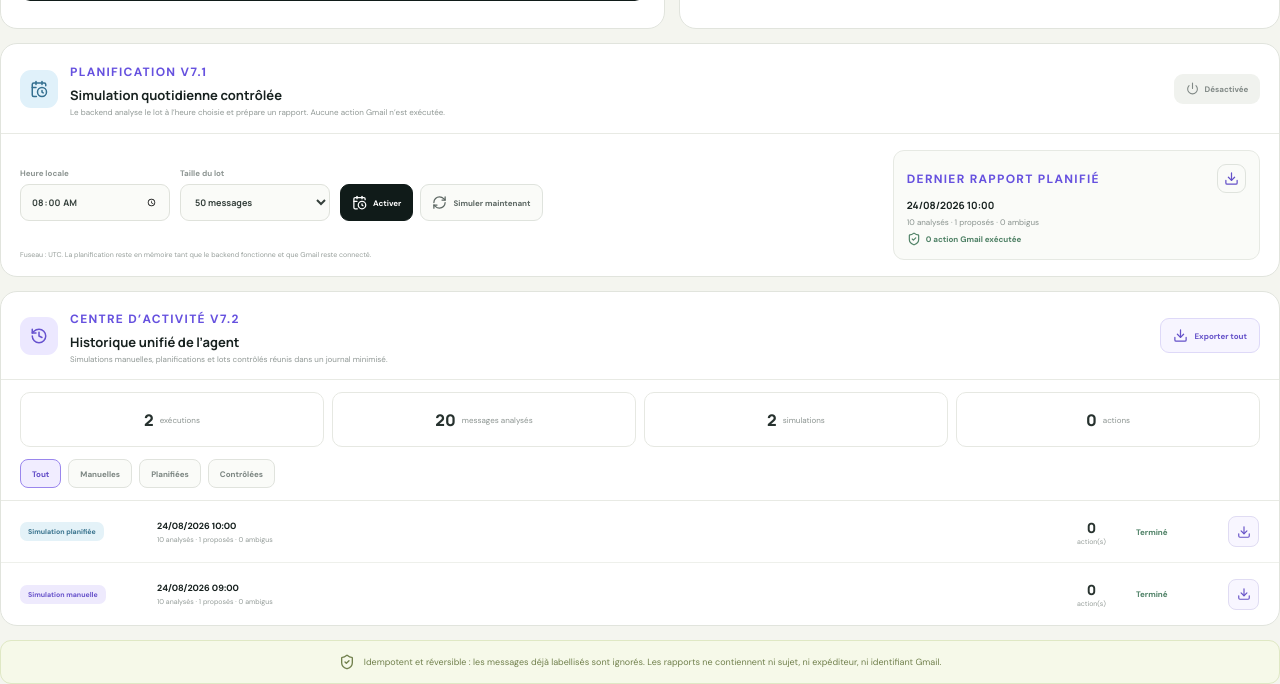
Scenario: Agent contrôlé V7 › réunit et filtre les rapports manuels et planifiés
(page scrolled)
Expected: the text "Simulation planifiée" is shown, top-left (20, 522), bottom-right (104, 541)
Expected: the text "Simulation manuelle" is shown, top-left (20, 584), bottom-right (106, 604)
Click the button "Planifiées".
click(170, 474)  # box top-left (139, 459), bottom-right (201, 488)
(page scrolled)
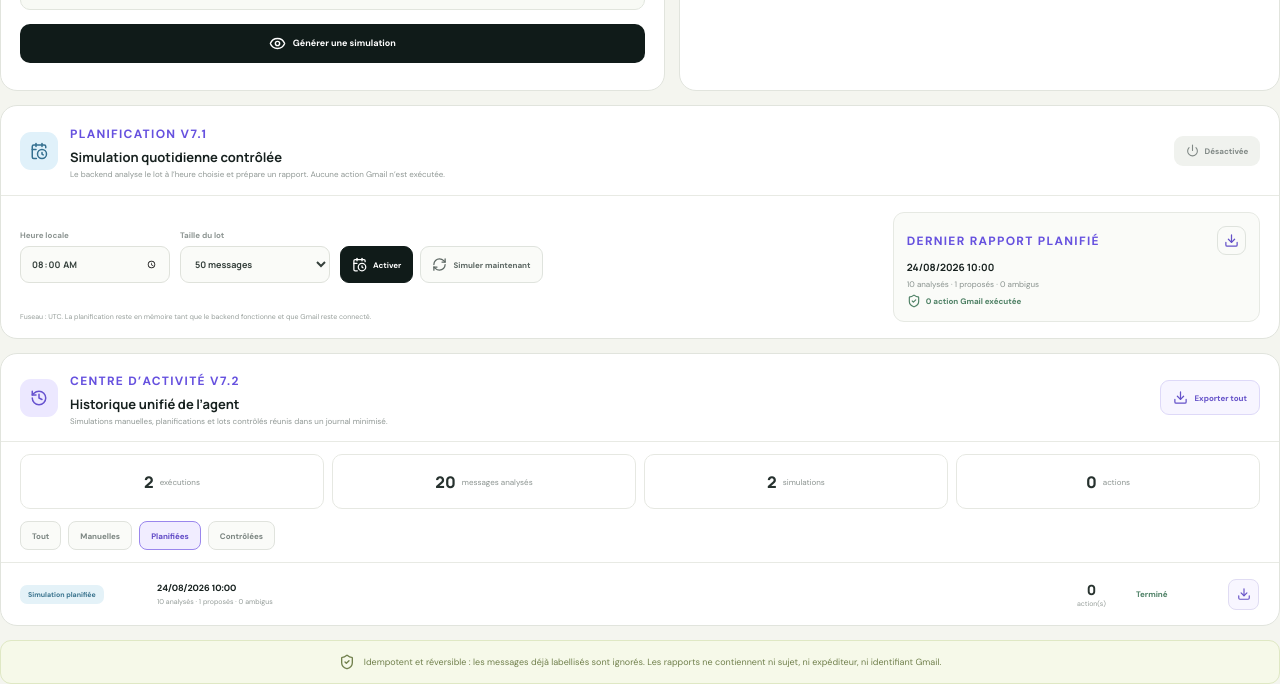
Expected: the text "Simulation planifiée" is shown, top-left (20, 584), bottom-right (104, 604)
Expected: the text "Simulation manuelle" is gone
